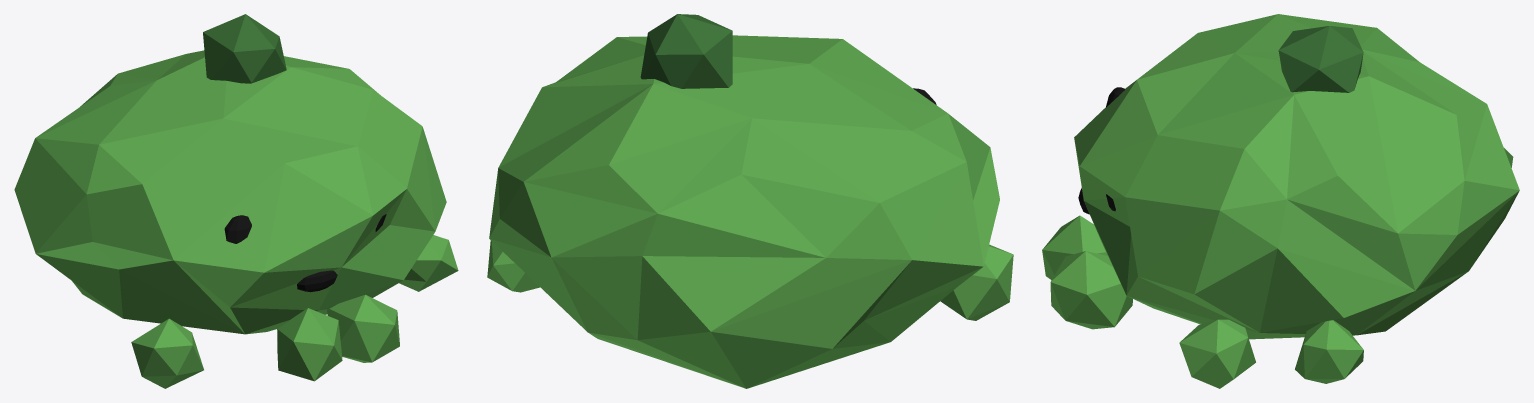
Rendered from Slime.obj.
3 renders of one model, left to right at view 1: azimuth 30°, elevation 25°; view 2: azimuth 150°, elevation 25°; view 3: azimuth 270°, elevation 25°, orthographic. The views are drawn at different scales.
Visible parts, largest first — view 1: Slime; view 2: Slime; view 3: Slime.
Boxes of the visible parts, x1,y1,x2,y2 form: Slime: [14, 14, 458, 388]; Slime: [487, 14, 1013, 388]; Slime: [1042, 14, 1519, 388].
Size of the model in its own units: 3.3 by 2.27 by 3.22.
